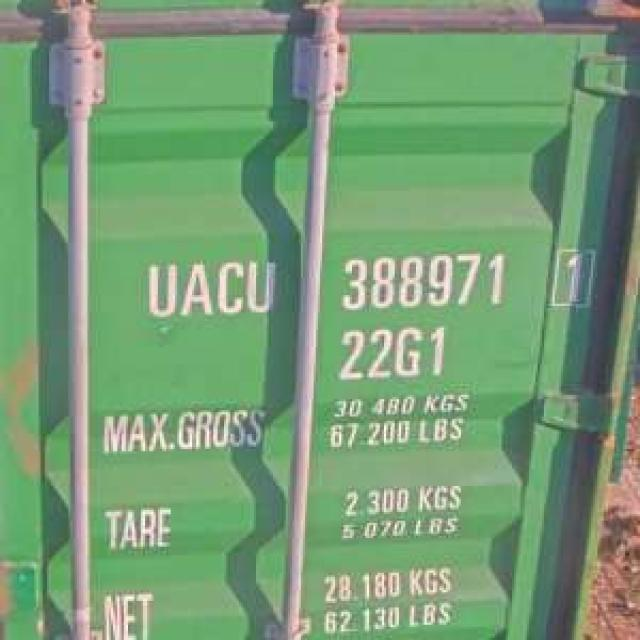dv: (546, 249, 594, 315)
owner: (138, 252, 283, 324)
serial: (336, 250, 508, 316)
size: (330, 324, 454, 387)
